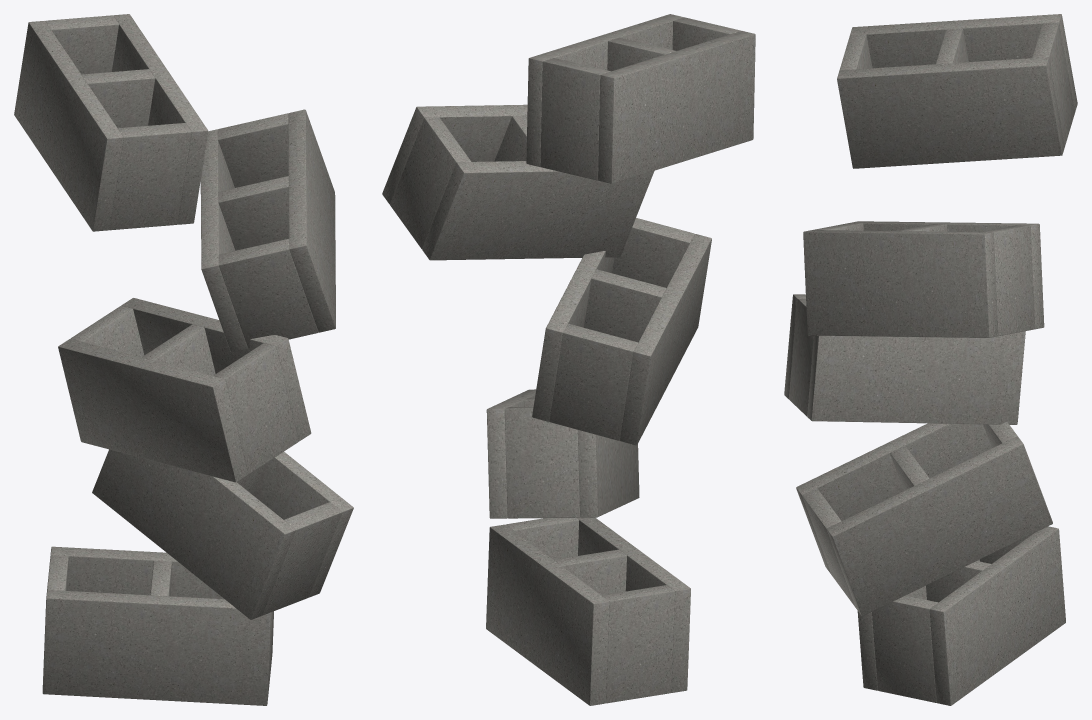
File: ALV-BCO-007_anim.glb
3 views of the same model, side by side, from view 1: azimuth 30°, elevation 25°; view 2: azimuth 150°, elevation 25°; view 3: azimuth 270°, elevation 25° (orthographic). The views are drawn at different scales.
Parts seen in each view (by area): view 1: ALV-BCO-007_anim2, ALV-BCO-007_anim4, ALV-BCO-007_anim0, ALV-BCO-007_anim3, ALV-BCO-007_anim1; view 2: ALV-BCO-007_anim4, ALV-BCO-007_anim0, ALV-BCO-007_anim3, ALV-BCO-007_anim2, ALV-BCO-007_anim1; view 3: ALV-BCO-007_anim4, ALV-BCO-007_anim1, ALV-BCO-007_anim3, ALV-BCO-007_anim0, ALV-BCO-007_anim2.
Part boxes in pixels (bbox=[...]): ALV-BCO-007_anim2: bbox=[58, 298, 311, 482]; ALV-BCO-007_anim4: bbox=[14, 14, 208, 231]; ALV-BCO-007_anim0: bbox=[42, 546, 273, 705]; ALV-BCO-007_anim3: bbox=[200, 109, 335, 352]; ALV-BCO-007_anim1: bbox=[92, 449, 353, 619]; ALV-BCO-007_anim4: bbox=[526, 14, 755, 183]; ALV-BCO-007_anim0: bbox=[486, 517, 690, 705]; ALV-BCO-007_anim3: bbox=[382, 104, 654, 260]; ALV-BCO-007_anim2: bbox=[532, 218, 711, 445]; ALV-BCO-007_anim1: bbox=[486, 389, 639, 518]; ALV-BCO-007_anim4: bbox=[837, 14, 1077, 168]; ALV-BCO-007_anim1: bbox=[796, 422, 1052, 616]; ALV-BCO-007_anim3: bbox=[803, 221, 1044, 337]; ALV-BCO-007_anim0: bbox=[857, 526, 1065, 705]; ALV-BCO-007_anim2: bbox=[784, 294, 1025, 424].
Size of the model in its own units: 0.6108 by 1.22 by 0.5328.
Materials: 1 (1 with a texture image).
